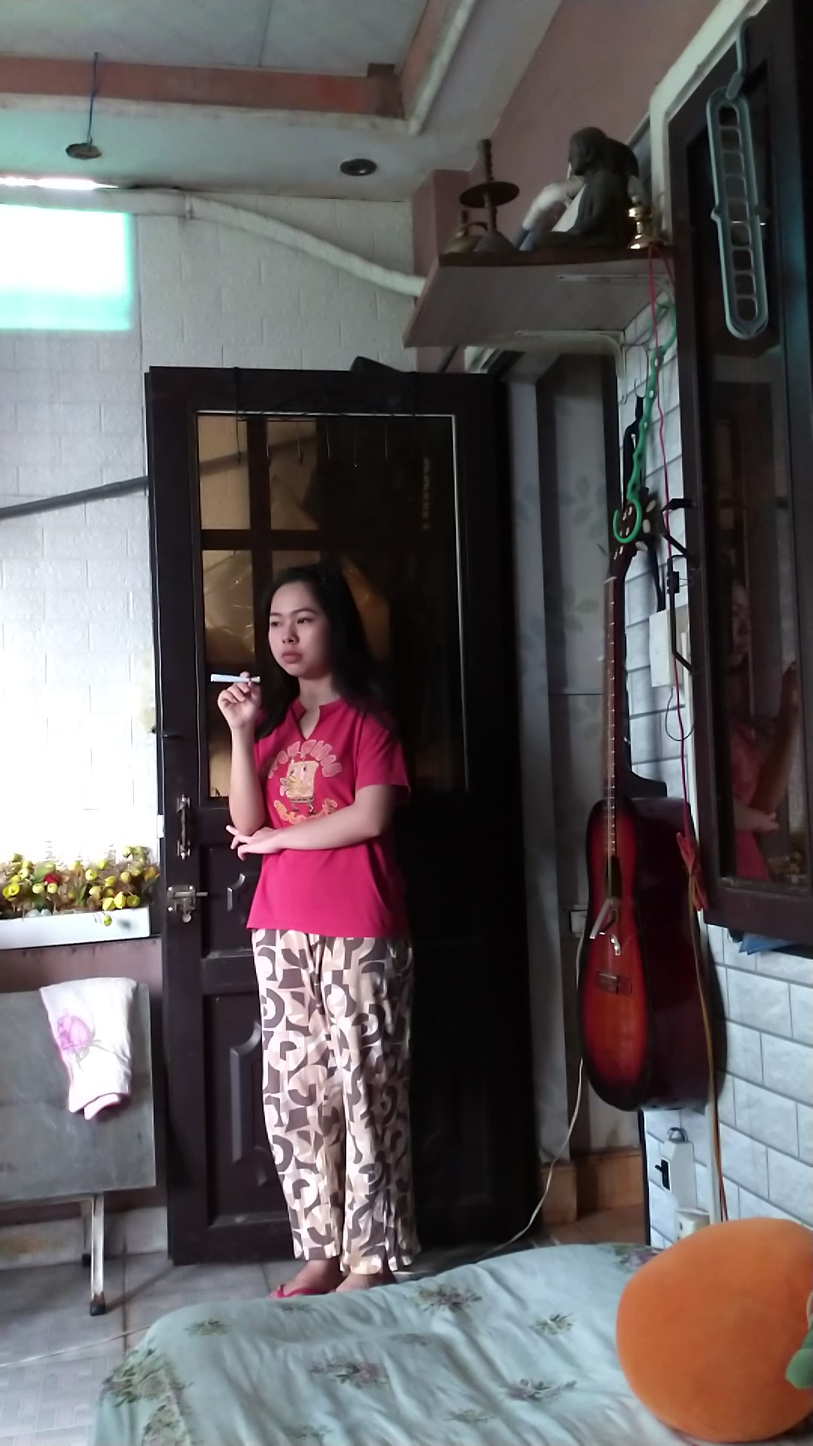cigarette: (208, 672, 262, 687)
person: (212, 548, 422, 1287)
